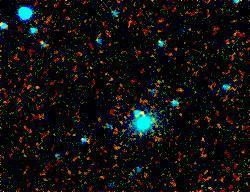star: (126, 97, 156, 127)
